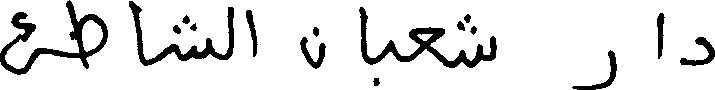ئ: (0, 10, 43, 75)
ا: (128, 0, 144, 66), (245, 8, 256, 58), (359, 4, 367, 64), (655, 10, 663, 58)
ب: (372, 37, 394, 87)
د: (682, 35, 713, 67)
ر: (575, 47, 614, 88)
ش: (458, 12, 496, 68), (172, 13, 208, 61)
ط: (65, 0, 106, 70)
ع: (409, 25, 442, 66)
ل: (226, 5, 232, 60)
ن: (299, 25, 325, 70)
